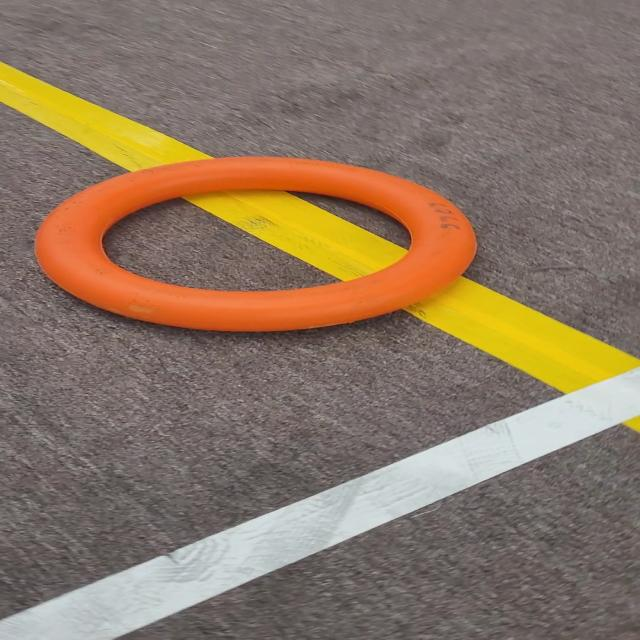note: (19, 146, 502, 346)
